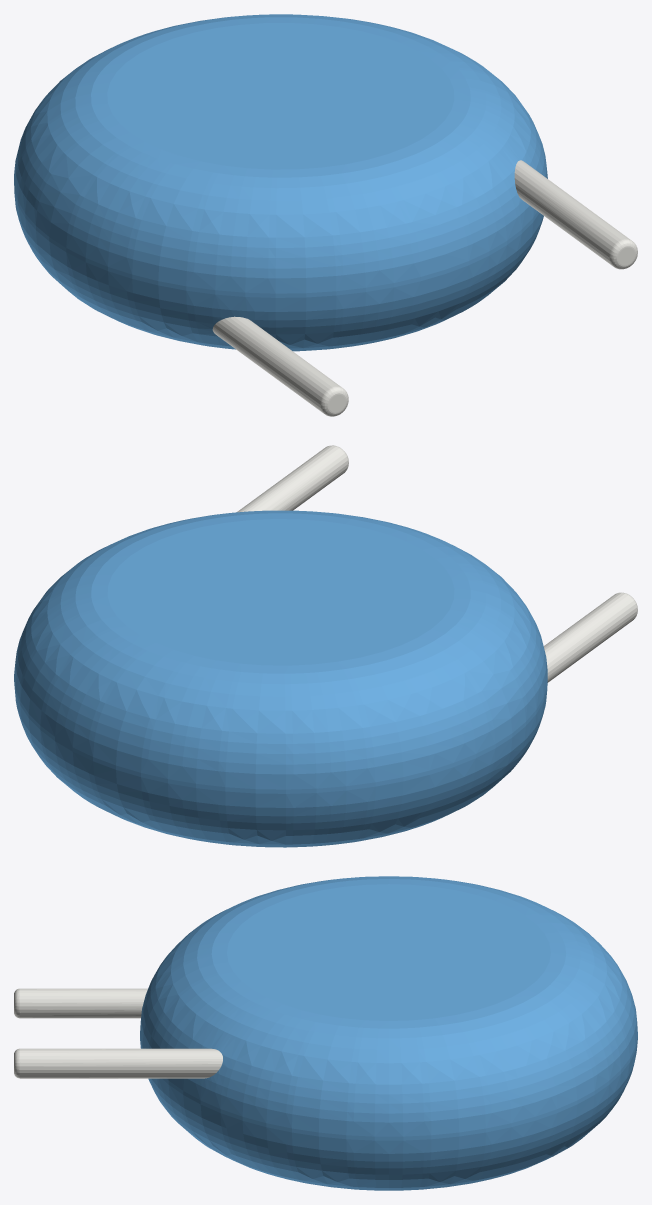
File: RV_Disc_D12mm_W4.3mm_P7.5mm.glb
3 renders of one model, top to bottom at view 1: azimuth 30°, elevation 25°; view 2: azimuth 150°, elevation 25°; view 3: azimuth 270°, elevation 25°, orthographic. The views are drawn at different scales.
Visible parts, largest first — view 1: Shape_IndexedFaceSet.001, Shape_IndexedFaceSet.003, Shape_IndexedFaceSet.002, Shape_IndexedFaceSet.006, Shape_IndexedFaceSet.004, Shape_IndexedFaceSet; view 2: Shape_IndexedFaceSet.001, Shape_IndexedFaceSet.003, Shape_IndexedFaceSet.002, Shape_IndexedFaceSet.006, Shape_IndexedFaceSet.004, Shape_IndexedFaceSet; view 3: Shape_IndexedFaceSet.001, Shape_IndexedFaceSet.003, Shape_IndexedFaceSet.002, Shape_IndexedFaceSet.004, Shape_IndexedFaceSet.006, Shape_IndexedFaceSet.
Boxes of the visible parts, x1,y1,x2,y2 form: Shape_IndexedFaceSet.001: (14,14,547,293); Shape_IndexedFaceSet.003: (107,23,454,169); Shape_IndexedFaceSet.002: (14,193,543,351); Shape_IndexedFaceSet.006: (212,316,341,412); Shape_IndexedFaceSet.004: (514,160,630,265); Shape_IndexedFaceSet: (14,181,539,297); Shape_IndexedFaceSet.001: (14,510,547,789); Shape_IndexedFaceSet.003: (107,519,454,665); Shape_IndexedFaceSet.002: (14,681,547,847); Shape_IndexedFaceSet.006: (543,593,636,682); Shape_IndexedFaceSet.004: (237,446,347,512); Shape_IndexedFaceSet: (14,677,547,793); Shape_IndexedFaceSet.001: (140,876,637,1136); Shape_IndexedFaceSet.003: (227,884,550,1020); Shape_IndexedFaceSet.002: (140,1039,637,1190); Shape_IndexedFaceSet.004: (20,1048,222,1078); Shape_IndexedFaceSet.006: (20,988,147,1018); Shape_IndexedFaceSet: (140,1035,637,1140).
Bounding box in the file's own units: 4.72 × 1.69 × 5.92.
